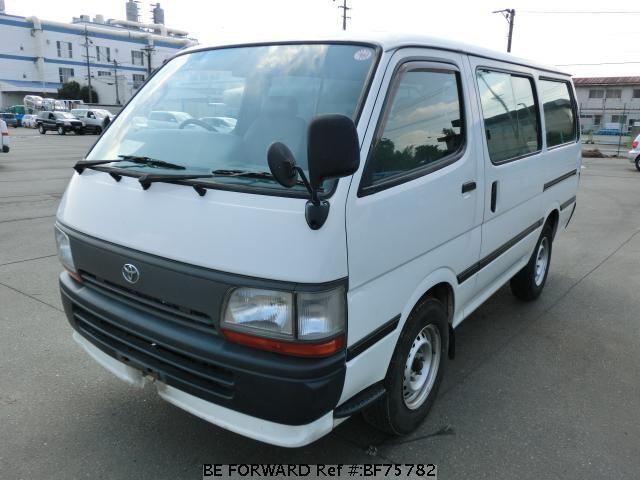Van: (50, 35, 579, 437)
